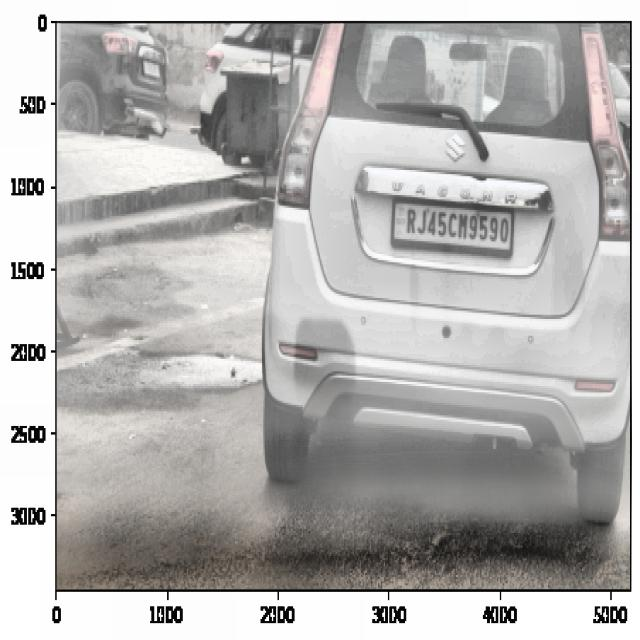license_plate: (405, 203, 514, 254)
